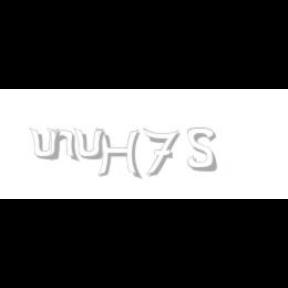7: (144, 128, 180, 178)
H: (96, 128, 142, 180)
S: (188, 128, 218, 172)
n: (46, 128, 80, 162)
u: (30, 128, 64, 160), (74, 128, 108, 160)
